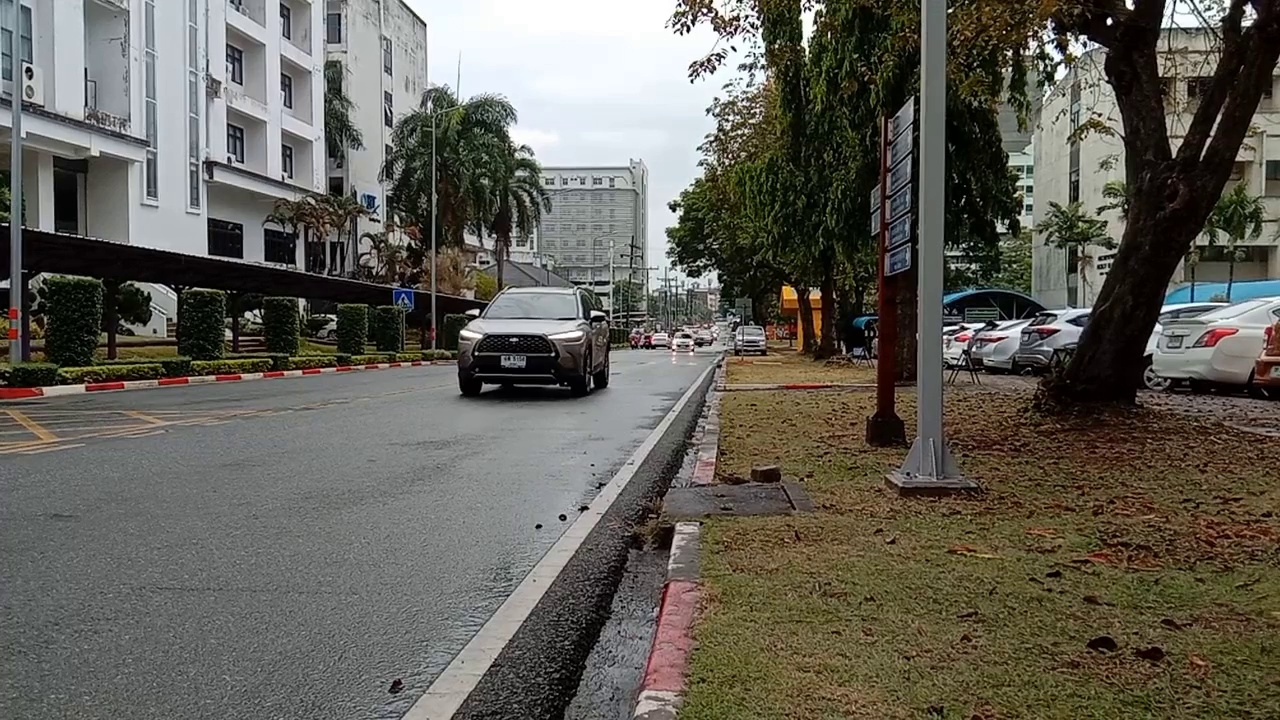License Plate: (500, 355, 527, 369)
